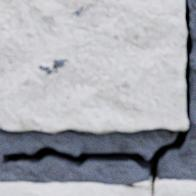brick: (0, 0, 187, 133)
broken_brick: (0, 181, 151, 195), (154, 179, 195, 195)
crack: (2, 0, 193, 195)
